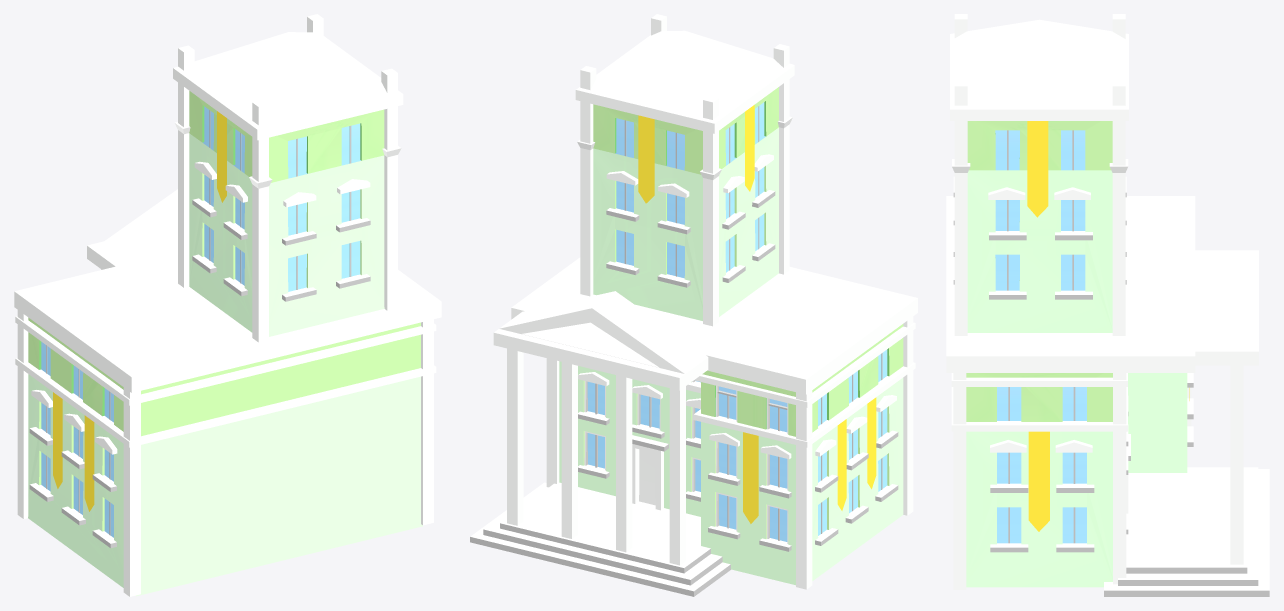
Rendered from art.007.glb.
The picture shows the model from 3 angles, left to right: view 1: azimuth 30°, elevation 25°; view 2: azimuth 150°, elevation 25°; view 3: azimuth 270°, elevation 25°; orthographic projection. The views are drawn at different scales.
Parts seen in each view (by area): view 1: art.007(Clone); view 2: art.007(Clone); view 3: art.007(Clone).
Boxes of the visible parts, <box> form: art.007(Clone): <box>14,14,441,596</box>; art.007(Clone): <box>470,14,917,596</box>; art.007(Clone): <box>946,14,1269,596</box>.
Size of the model in its own units: 12.04 by 17.67 by 9.98.
Materials: 1 (1 with a texture image).
